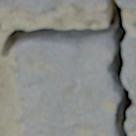broken_brick: (16, 39, 118, 135), (122, 36, 135, 135), (0, 0, 62, 13), (66, 0, 106, 11), (117, 0, 135, 9)
crack: (0, 0, 134, 135), (59, 0, 69, 5)
